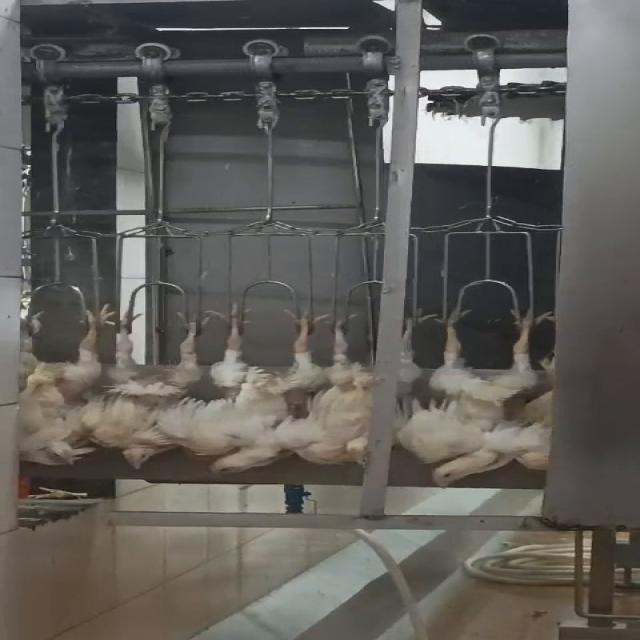chicken: (405, 304, 560, 492), (192, 306, 347, 479), (0, 297, 123, 467), (89, 302, 208, 472), (313, 312, 392, 464)
